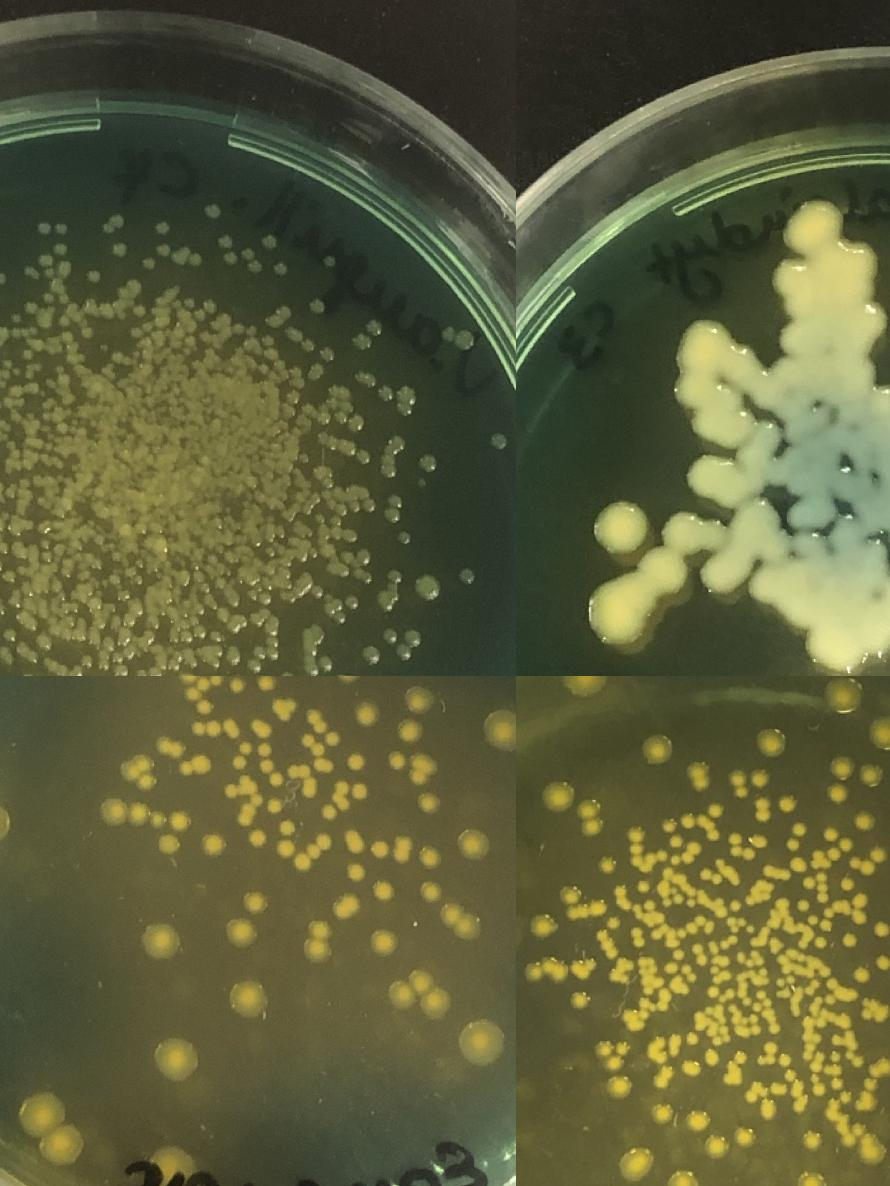sinniae: (800, 1031, 842, 1075), (628, 825, 667, 872), (724, 988, 774, 1019), (812, 976, 858, 1008), (549, 958, 598, 985), (592, 1039, 628, 1074), (576, 798, 603, 839), (729, 832, 766, 861), (848, 848, 886, 876), (680, 814, 719, 841), (826, 680, 858, 711), (756, 726, 786, 758), (543, 781, 573, 812), (836, 1114, 864, 1146), (622, 1000, 650, 1032), (723, 1050, 747, 1086), (641, 734, 671, 762), (802, 872, 828, 904), (652, 1054, 675, 1090), (565, 676, 604, 697), (843, 1030, 864, 1068), (622, 1150, 650, 1178), (858, 1138, 886, 1166), (595, 929, 618, 961), (802, 1013, 850, 1028), (786, 822, 808, 853), (782, 1068, 806, 1096), (869, 717, 890, 748), (734, 1015, 762, 1038), (669, 845, 701, 865), (828, 836, 854, 860), (663, 947, 686, 974), (744, 1079, 769, 1103), (860, 1000, 886, 1022), (851, 893, 868, 926), (756, 1040, 776, 1066), (774, 964, 797, 986), (691, 942, 710, 968), (800, 1128, 822, 1150), (732, 1126, 754, 1148), (688, 1110, 710, 1132), (651, 1103, 673, 1125), (608, 1076, 630, 1098), (568, 989, 590, 1011), (524, 961, 546, 983), (531, 915, 553, 937), (826, 783, 848, 805), (860, 764, 882, 786), (688, 760, 710, 782), (832, 758, 854, 780), (708, 965, 732, 985), (730, 772, 748, 798), (705, 1135, 726, 1157), (559, 886, 580, 908), (856, 810, 877, 832), (749, 768, 771, 789), (614, 884, 632, 909), (763, 865, 792, 880), (629, 925, 646, 950), (669, 1171, 697, 1186), (868, 1058, 890, 1076), (796, 1172, 824, 1186), (751, 966, 770, 986), (756, 797, 770, 824), (682, 1058, 700, 1078), (700, 869, 723, 884), (680, 964, 698, 983), (760, 1102, 778, 1120), (703, 1048, 721, 1066), (820, 909, 834, 932), (825, 1098, 839, 1120), (810, 1074, 824, 1096), (656, 992, 672, 1011), (854, 966, 870, 984), (874, 953, 890, 971), (599, 858, 615, 876), (841, 931, 857, 948), (804, 979, 822, 994), (590, 900, 606, 916), (726, 917, 748, 928), (874, 922, 890, 937), (791, 858, 807, 872), (823, 826, 839, 840), (778, 798, 794, 812), (708, 803, 722, 818), (778, 1054, 792, 1068), (606, 915, 620, 929), (796, 898, 810, 912), (841, 878, 855, 892), (637, 879, 650, 893), (793, 1100, 805, 1114), (862, 1096, 874, 1110), (771, 1082, 783, 1096), (864, 1078, 876, 1092), (686, 1032, 698, 1046), (815, 936, 827, 950)
valgino: (689, 420, 832, 564), (589, 512, 727, 640), (673, 318, 757, 406), (788, 202, 874, 286), (808, 616, 890, 674), (590, 500, 648, 558), (773, 258, 815, 302), (854, 304, 888, 336), (832, 518, 865, 550), (830, 470, 863, 502), (691, 405, 724, 437), (749, 572, 781, 604), (700, 558, 732, 590), (844, 359, 876, 391), (780, 325, 813, 356), (867, 385, 890, 417)
vangil: (216, 228, 265, 274), (300, 338, 336, 366), (396, 631, 424, 662), (34, 218, 72, 240), (456, 566, 478, 590), (306, 296, 326, 318), (84, 267, 104, 289), (271, 258, 291, 280), (110, 238, 130, 260), (261, 234, 281, 256), (151, 217, 171, 239), (202, 202, 222, 224), (317, 654, 335, 672), (224, 647, 242, 665), (382, 628, 400, 646), (343, 593, 361, 611), (140, 256, 158, 274), (154, 242, 172, 260), (378, 385, 396, 402), (188, 252, 206, 269), (356, 449, 373, 466), (412, 476, 430, 492), (490, 434, 508, 450), (260, 332, 278, 348), (23, 300, 41, 316), (320, 254, 338, 270), (50, 242, 68, 258), (36, 635, 54, 650), (396, 530, 412, 546), (366, 320, 384, 334), (59, 314, 71, 329), (0, 268, 8, 290), (21, 349, 33, 363), (98, 340, 110, 354), (9, 312, 21, 326), (182, 632, 194, 644), (331, 670, 353, 676), (18, 673, 36, 676)
vharveyi: (390, 971, 454, 1021), (155, 810, 193, 855), (120, 752, 158, 795), (158, 1038, 196, 1078), (463, 1022, 501, 1062), (440, 904, 479, 940), (300, 734, 334, 773), (304, 918, 332, 964), (102, 801, 150, 827), (485, 710, 516, 750), (152, 1150, 190, 1182), (231, 983, 264, 1015), (46, 1128, 78, 1160), (25, 1096, 57, 1128), (144, 925, 176, 957), (223, 916, 255, 948), (457, 829, 489, 861), (184, 686, 216, 718), (402, 683, 434, 715), (177, 676, 225, 691), (225, 776, 257, 798), (180, 755, 212, 775), (416, 789, 440, 814), (354, 702, 378, 727), (412, 756, 435, 782), (339, 892, 363, 916), (243, 890, 267, 914), (420, 880, 444, 904), (371, 879, 395, 903), (418, 846, 442, 870), (201, 833, 225, 857), (271, 699, 296, 722), (330, 782, 350, 810), (156, 738, 184, 758), (398, 721, 422, 744), (257, 742, 273, 776), (372, 932, 396, 954), (347, 830, 367, 854), (306, 709, 326, 733), (345, 862, 367, 882), (369, 840, 391, 860), (386, 750, 408, 770), (226, 676, 248, 696), (192, 722, 221, 737), (346, 752, 366, 772), (275, 840, 297, 858), (223, 718, 241, 740), (394, 837, 410, 861), (235, 810, 256, 828), (255, 676, 277, 693), (316, 834, 336, 852), (248, 830, 268, 848), (277, 819, 297, 837), (266, 798, 286, 816), (350, 782, 370, 800), (254, 722, 274, 740), (293, 854, 313, 871), (288, 765, 311, 778), (151, 812, 165, 830), (232, 754, 246, 771), (271, 772, 284, 789), (326, 732, 340, 746), (240, 740, 252, 754), (339, 676, 363, 683), (252, 795, 264, 808), (322, 807, 334, 819), (304, 778, 316, 790)
